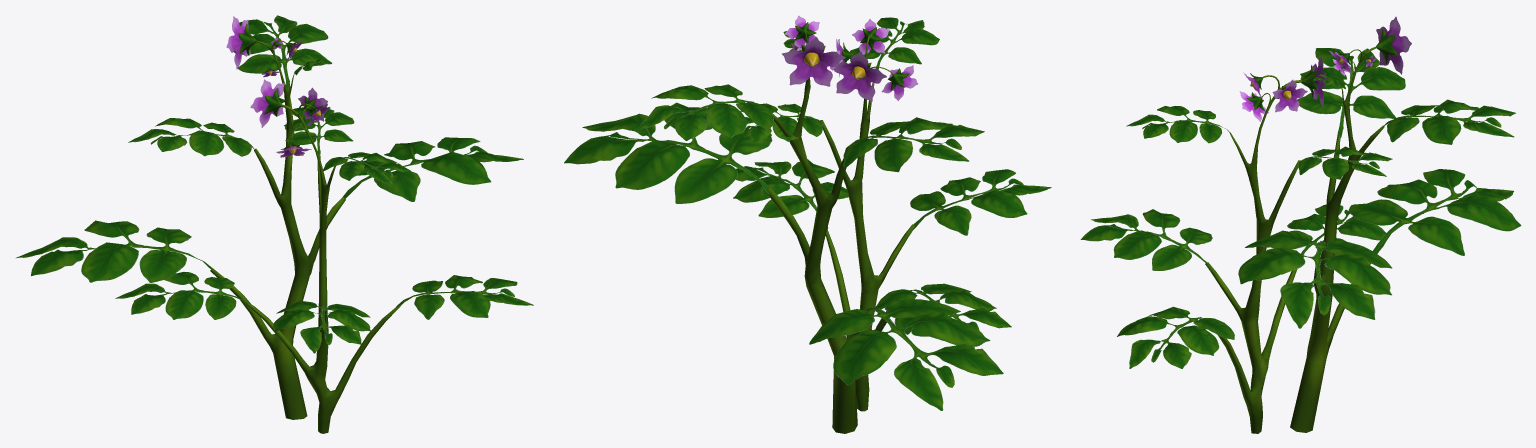
Rendered from Potato_final.fbx.
The picture shows the model from 3 angles, left to right: view 1: azimuth 30°, elevation 25°; view 2: azimuth 150°, elevation 25°; view 3: azimuth 270°, elevation 25°; orthographic projection. The views are drawn at different scales.
Parts seen in each view (by area): view 1: Potato3_low, Potato1_low; view 2: Potato3_low, Potato1_low; view 3: Potato3_low, Potato1_low.
Boxes of the visible parts, x1,y1,x2,y2 form: Potato3_low: (15,15,523,419); Potato1_low: (115,79,533,433); Potato3_low: (564,15,1003,433); Potato1_low: (733,17,1051,411); Potato3_low: (1238,16,1521,432); Potato1_low: (1080,54,1392,433).
Bounding box in the file's own units: 169 × 142 × 140.
